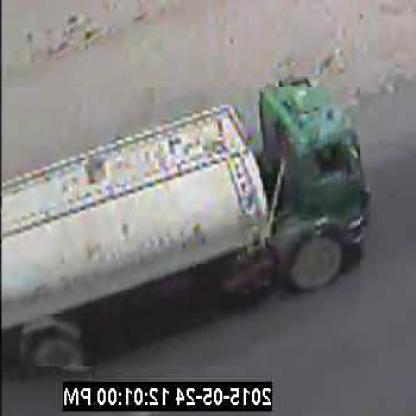truck: (2, 88, 361, 369)
